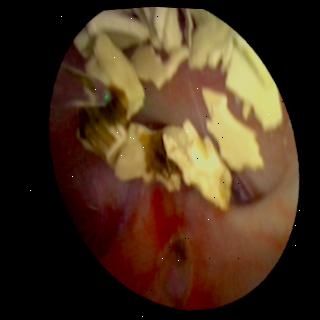stone: (75, 36, 229, 208), (181, 6, 279, 125), (74, 5, 179, 57), (201, 86, 261, 171)
tissue: (51, 76, 294, 301), (142, 72, 218, 123)
